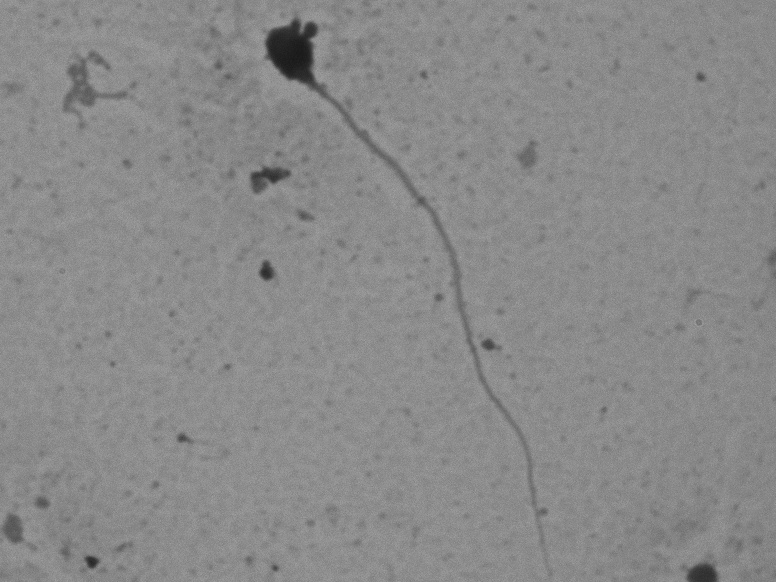Abnormal: (253, 11, 592, 573)
